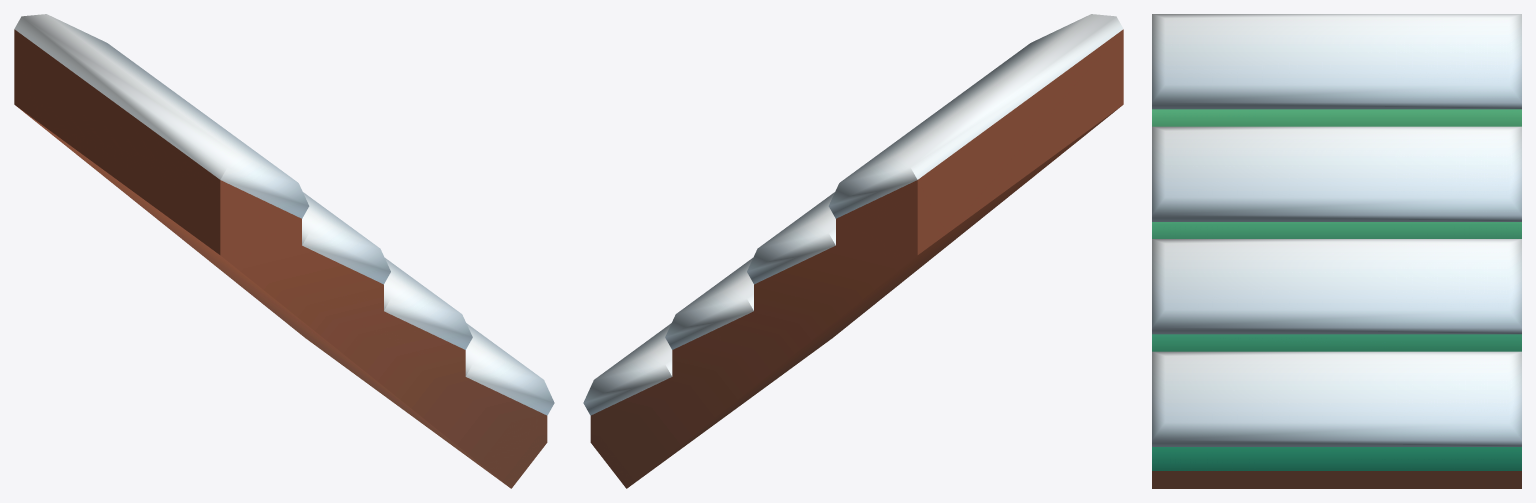
Rendered from cabin-roof-snow.glb.
3 renders of one model, left to right at view 1: azimuth 30°, elevation 25°; view 2: azimuth 150°, elevation 25°; view 3: azimuth 270°, elevation 25°, orthographic. The views are drawn at different scales.
Visible parts, largest first — view 1: cabin-roof-snow; view 2: cabin-roof-snow; view 3: cabin-roof-snow.
Part boxes in pixels (x1=…): cabin-roof-snow: x1=14, y1=14, x2=554, y2=488; cabin-roof-snow: x1=583, y1=14, x2=1123, y2=488; cabin-roof-snow: x1=1152, y1=14, x2=1521, y2=488.
Bounding box in the file's own units: 1.31 × 1.48 × 1.4.
Materials: 1 (1 with a texture image).
